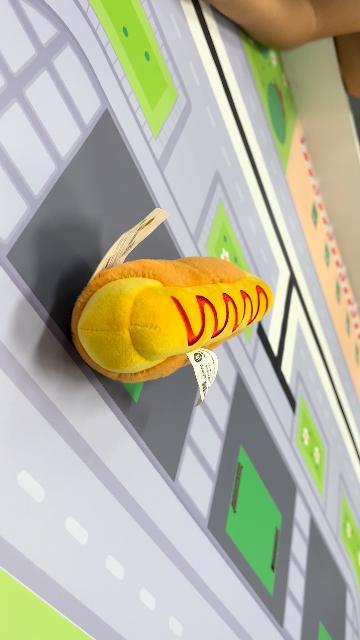hotdog: (72, 256, 274, 380)
